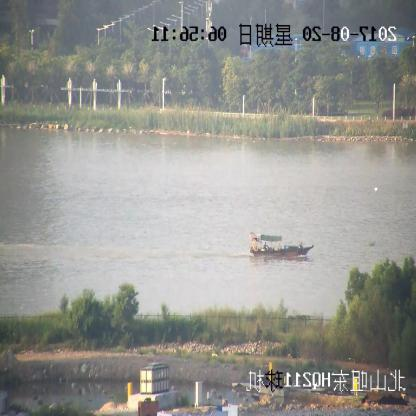Fishing Boat: (250, 234, 313, 257)
